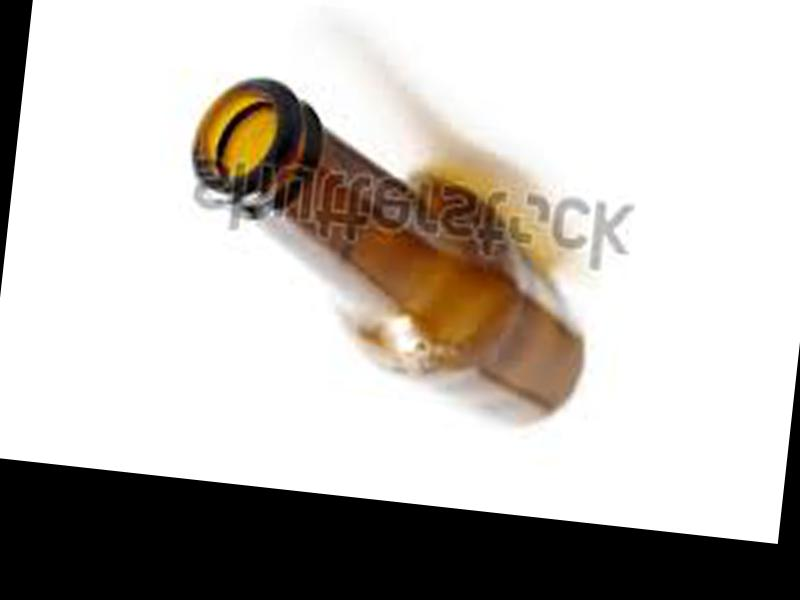Beer: (164, 68, 612, 431)
